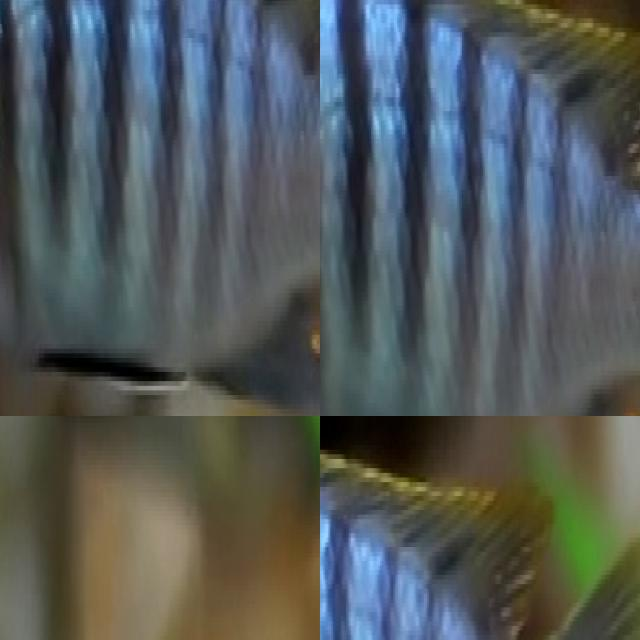fish: (0, 0, 320, 416), (320, 431, 640, 640)
